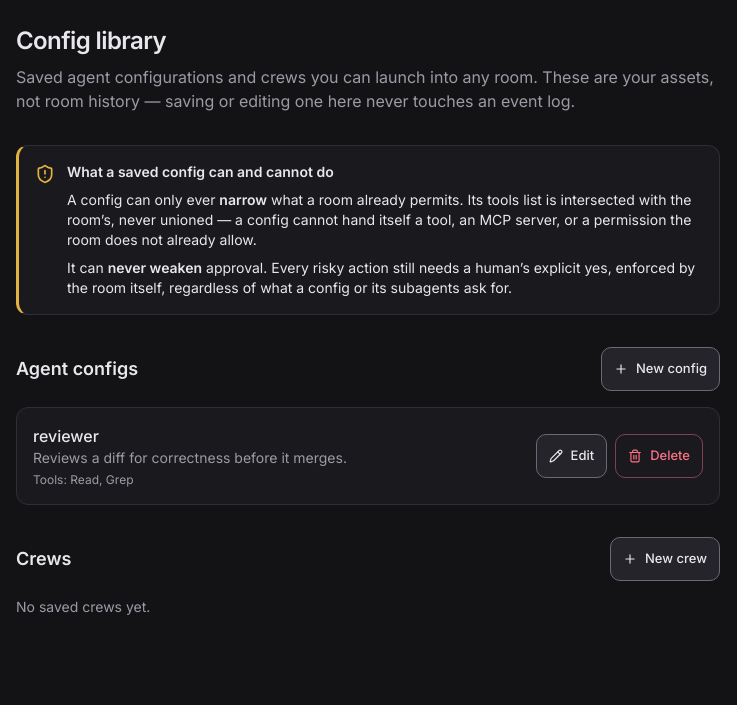
it: ConfigLibrary › opening Edit on a saved config pre-fills the form with its values
Expected: the text "reviewer" is shown, top-left (33, 426), bottom-right (99, 446)
Click the button with aria-label "edit reviewer". click: (571, 456)
box: top-left (536, 434), bottom-right (607, 478)
(page scrolled)
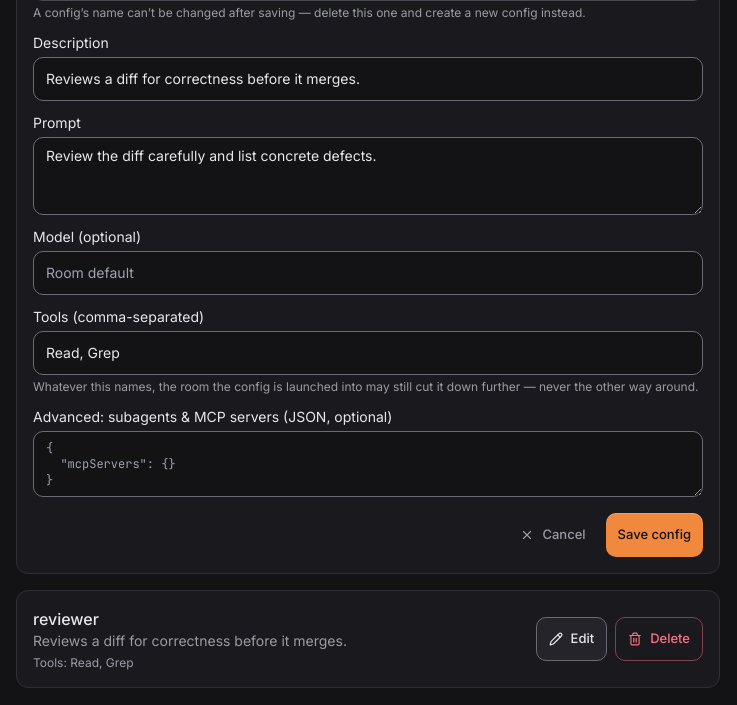
Expected: the field labelled "Description" holds "Reviews a diff for correctness before it merges.", top-left (33, 57), bottom-right (703, 101)
Expected: the field labelled "Tools" holds "Read, Grep", top-left (33, 331), bottom-right (703, 375)
